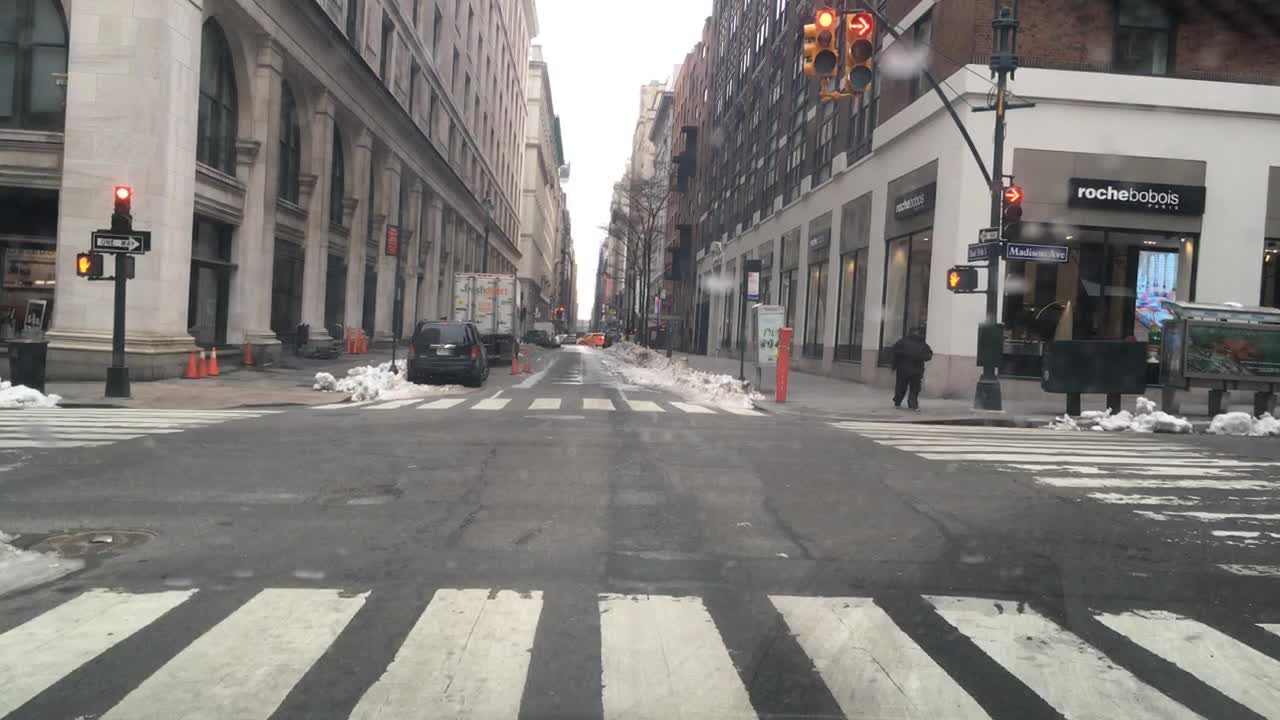car: (406, 320, 487, 386), (577, 330, 603, 346), (524, 328, 546, 346), (565, 331, 578, 343)
person: (887, 326, 932, 406)
traffic light: (847, 12, 872, 92), (814, 8, 838, 76), (1001, 179, 1020, 239), (112, 187, 132, 229), (802, 23, 813, 73), (944, 268, 970, 289), (77, 253, 102, 274), (123, 257, 134, 277)
traffic sign: (93, 235, 145, 252), (1005, 247, 1066, 260), (964, 242, 988, 260), (975, 227, 999, 239)
truck: (452, 270, 519, 359), (534, 320, 556, 345)
